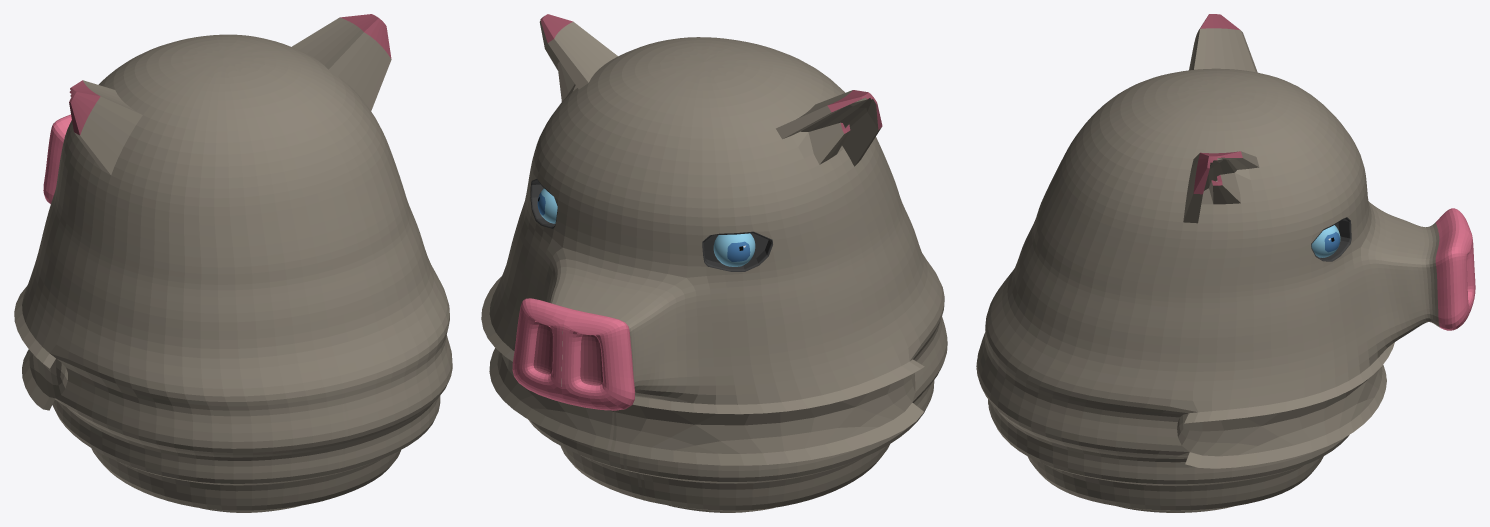
The model's file is inosuke_mask.glb.
3 views of the same model, side by side, from view 1: azimuth 30°, elevation 25°; view 2: azimuth 150°, elevation 25°; view 3: azimuth 270°, elevation 25° (orthographic). The views are drawn at different scales.
Parts seen in each view (by area): view 1: Sphere_0; view 2: Sphere_0; view 3: Sphere_0.
Part boxes in pixels (left/top/right/bottom): Sphere_0: left=14, top=14, right=452, bottom=512; Sphere_0: left=481, top=14, right=947, bottom=512; Sphere_0: left=976, top=14, right=1475, bottom=512.
Bounding box in the file's own units: 1.43 × 1.42 × 1.66.
